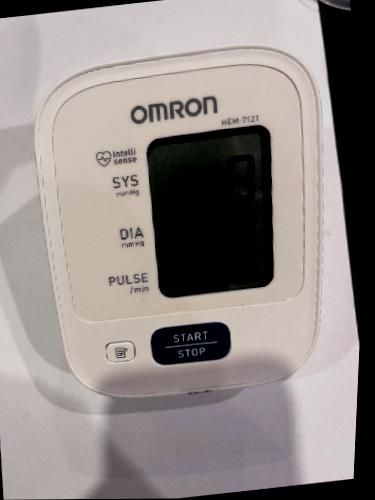bpm: (144, 121, 286, 302)
